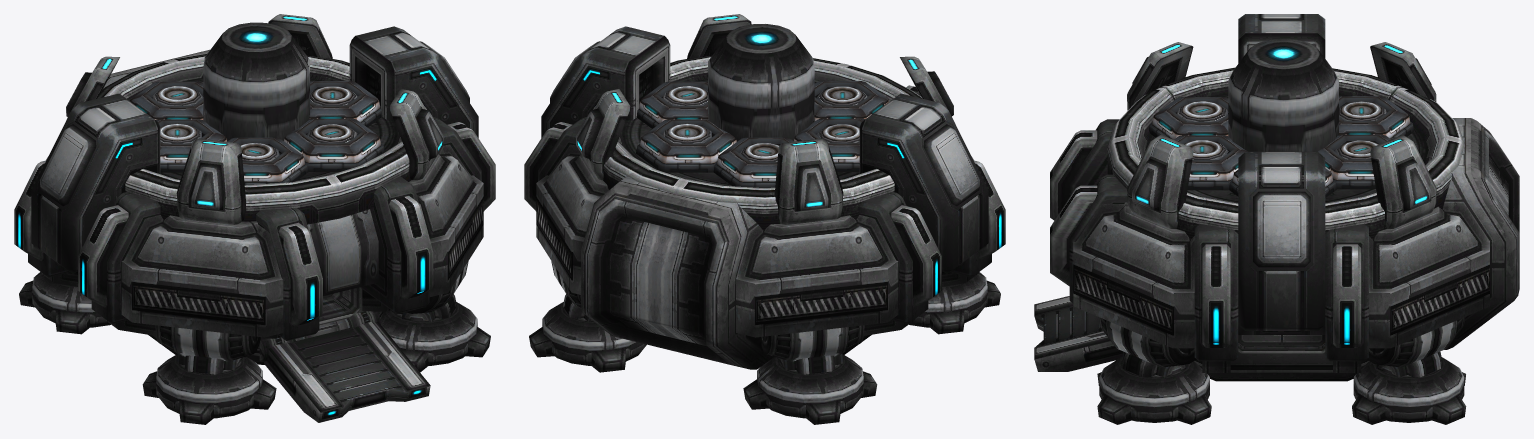
Rendered from ProcessingCore.glb.
The picture shows the model from 3 angles, left to right: view 1: azimuth 30°, elevation 25°; view 2: azimuth 150°, elevation 25°; view 3: azimuth 270°, elevation 25°; orthographic projection. The views are drawn at different scales.
Parts seen in each view (by area): view 1: Mesh, Mesh.004; view 2: Mesh, Mesh.004; view 3: Mesh, Mesh.004.
Part boxes in pixels (x1,y1,x2,y2): Mesh: (14, 14, 495, 424); Mesh.004: (130, 81, 384, 185); Mesh: (524, 14, 1005, 424); Mesh.004: (636, 81, 888, 187); Mesh: (1034, 14, 1519, 424); Mesh.004: (1149, 96, 1413, 197).
Bounding box in the file's own units: 4.64 × 3.1 × 4.61.
Materials: 10 (8 with a texture image).
